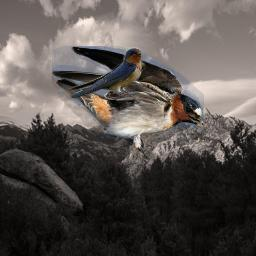Swallow: (52, 46, 204, 160), (56, 47, 146, 99)
